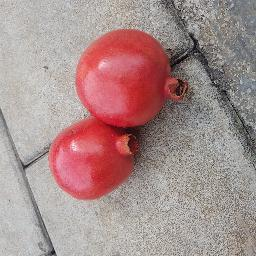Good_pomegranate: (71, 27, 192, 129), (47, 117, 145, 202)
